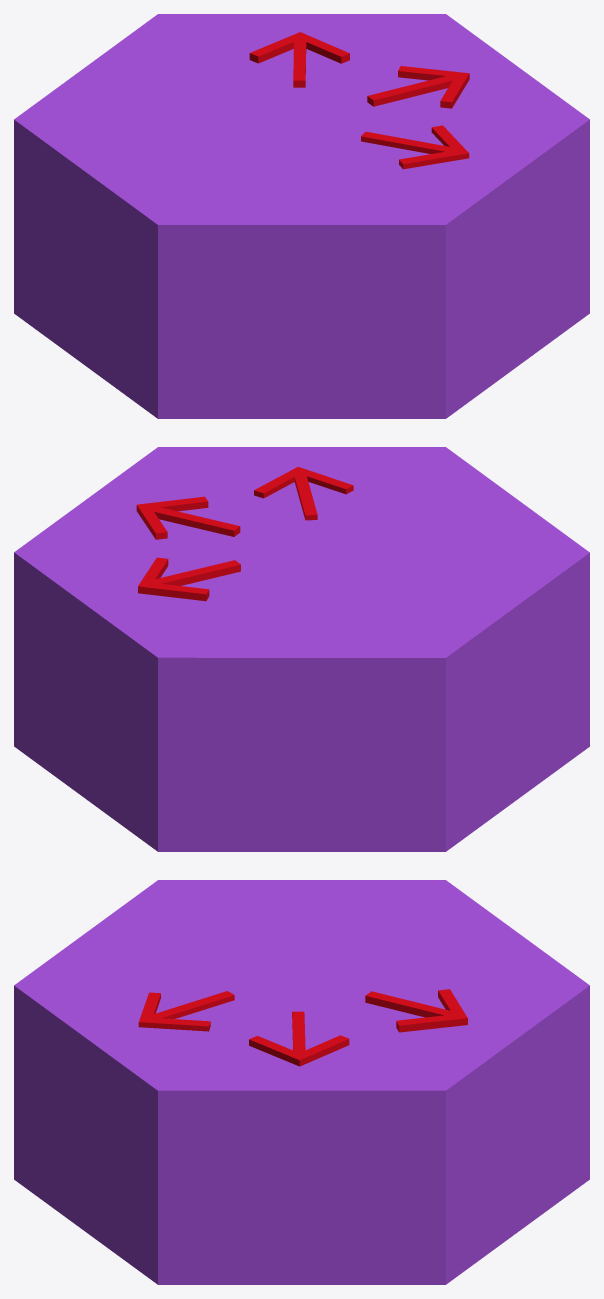
File: NormalTileArrowsStage3_2.fbx
3 views of the same model, one above another, from view 1: azimuth 30°, elevation 25°; view 2: azimuth 150°, elevation 25°; view 3: azimuth 270°, elevation 25° (orthographic).
Visible parts, largest first — view 1: NormalTileArrowsStage3_2; view 2: NormalTileArrowsStage3_2; view 3: NormalTileArrowsStage3_2.
Part boxes in pixels (x1,y1,x2,y2): NormalTileArrowsStage3_2: (14, 14, 589, 418); NormalTileArrowsStage3_2: (14, 447, 589, 851); NormalTileArrowsStage3_2: (14, 880, 589, 1284).
Size of the model in its own units: 173 by 77.05 by 200.
